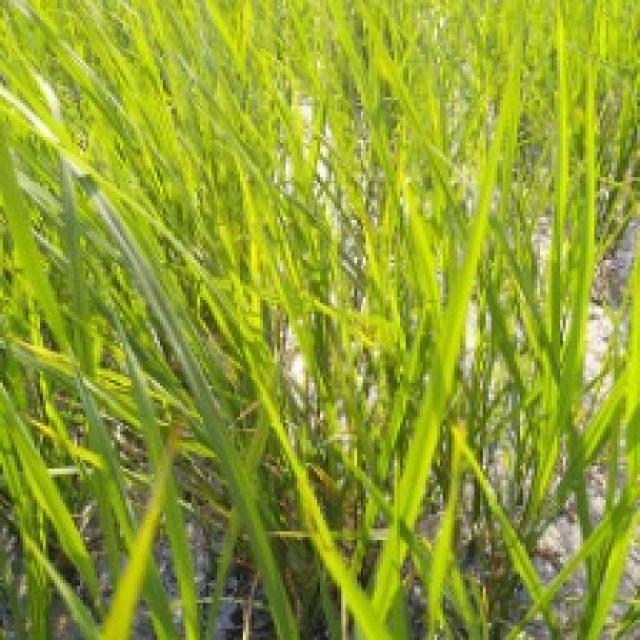Rice___Rice_Blast: (359, 72, 509, 637)
